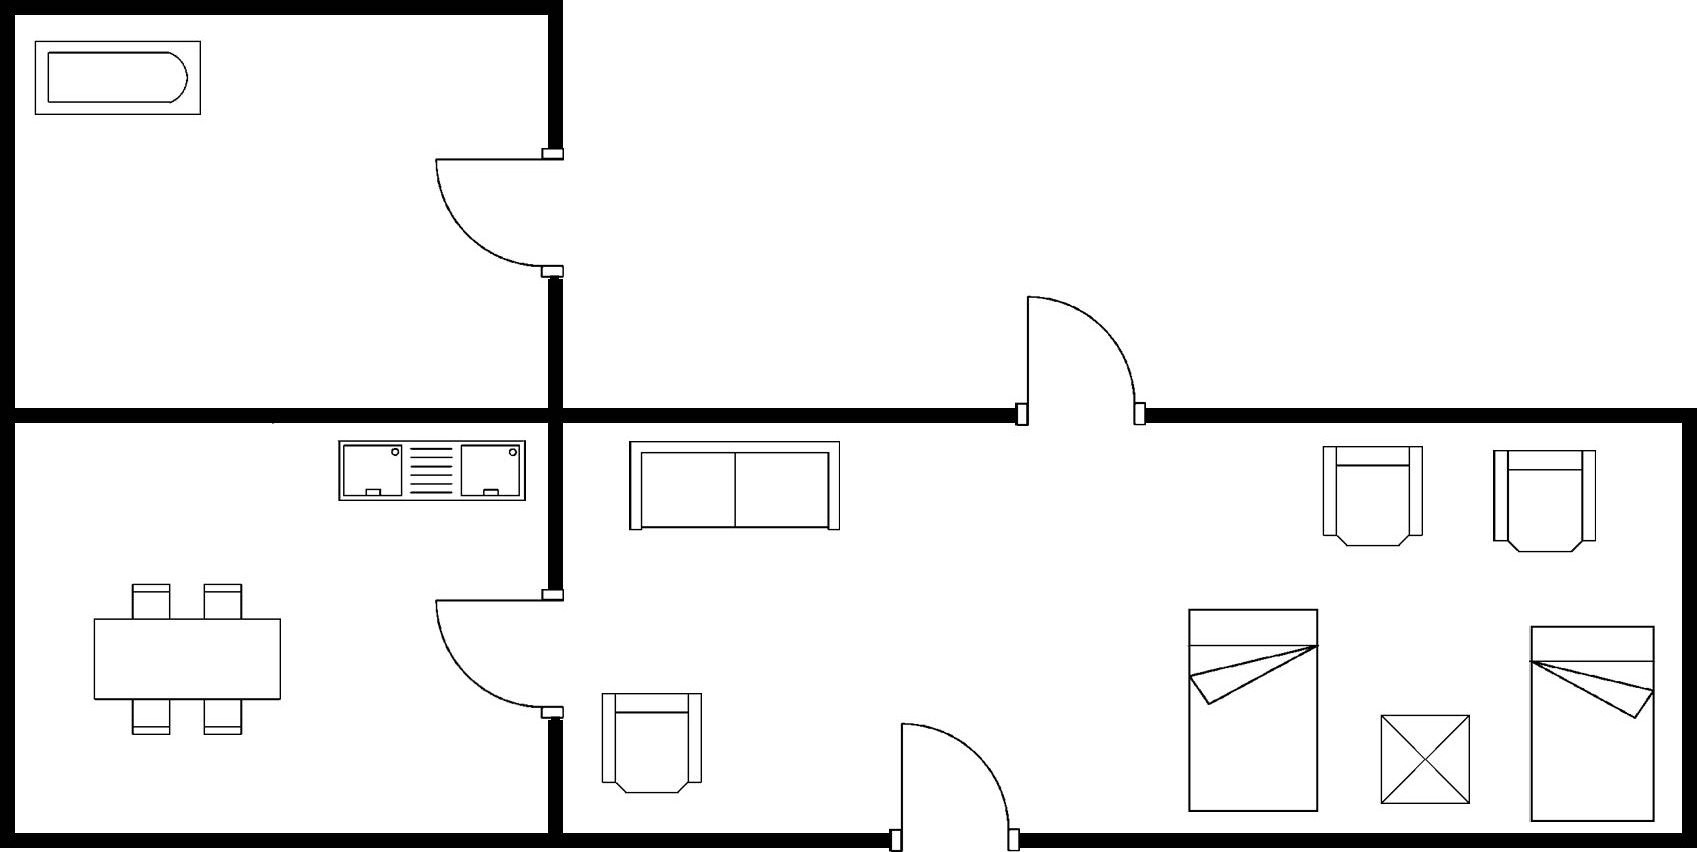armchair: (593, 687, 713, 802), (1486, 445, 1603, 556), (1315, 440, 1430, 552)
bed: (1181, 600, 1324, 818), (1525, 621, 1661, 827)
coffee_table: (1375, 711, 1474, 812)
dining_table: (72, 576, 292, 745)
large_sofa: (622, 435, 848, 540)
tub: (30, 34, 207, 122)
twin_sink: (333, 433, 530, 508)
